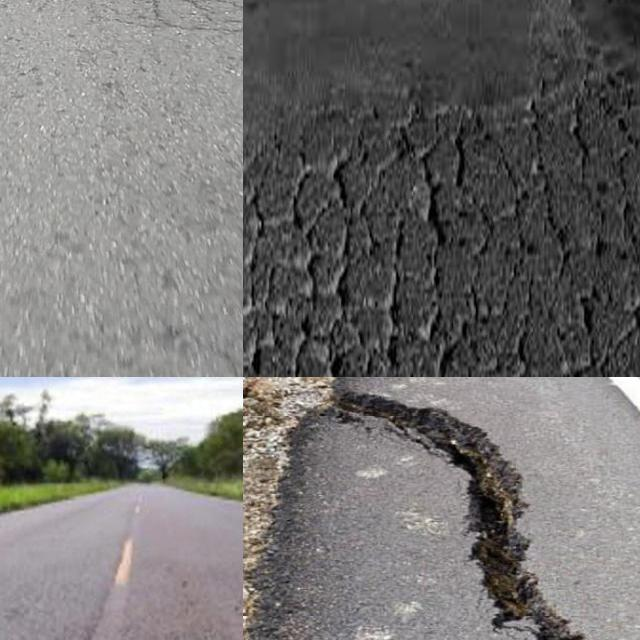Pinggir: (243, 380, 586, 640)
Retak Buaya: (243, 59, 640, 377)
